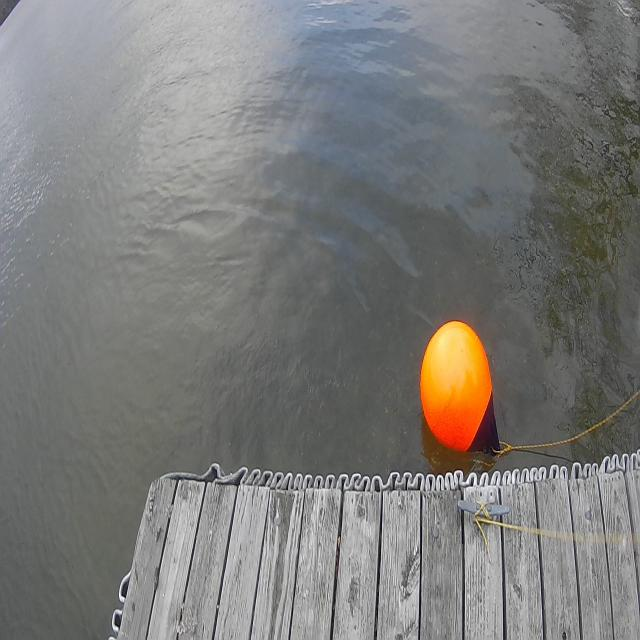Buoy: (414, 309, 509, 462)
